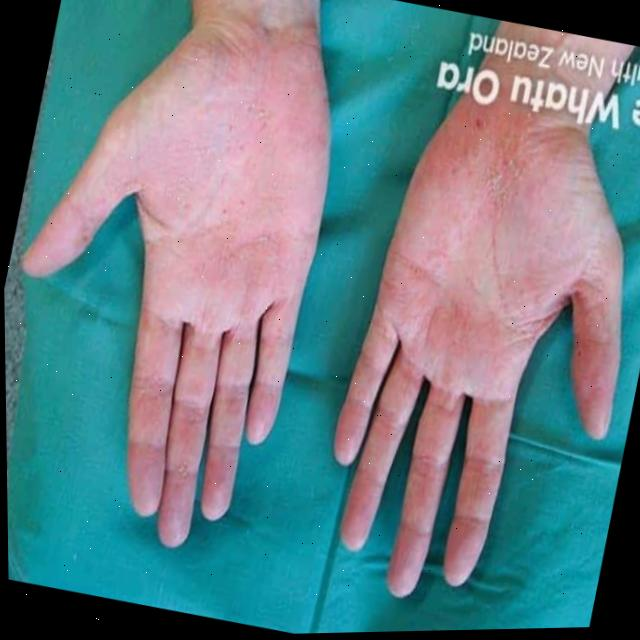Eczema: (113, 99, 353, 483), (379, 116, 562, 482)
